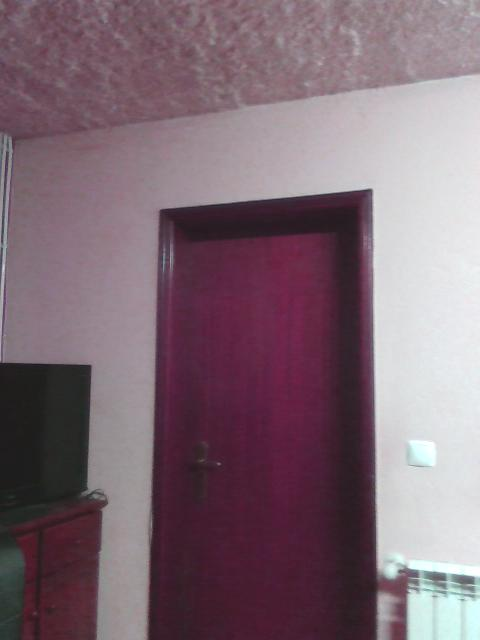closed_door: (148, 187, 373, 638)
